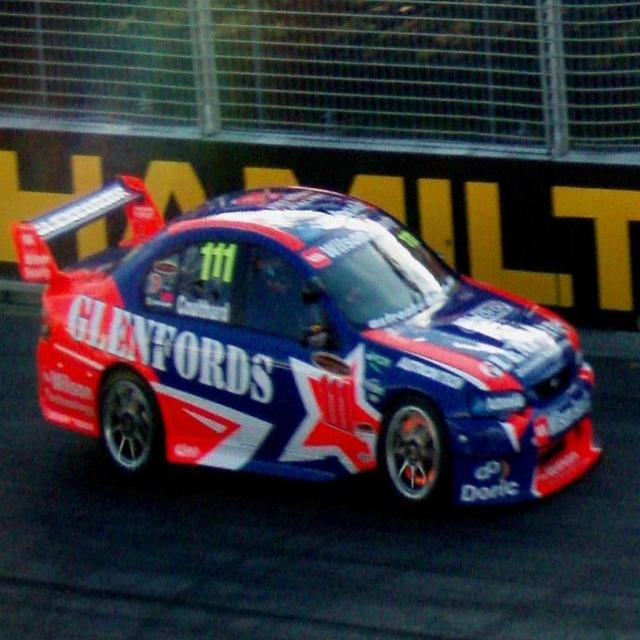car: (0, 167, 596, 545)
